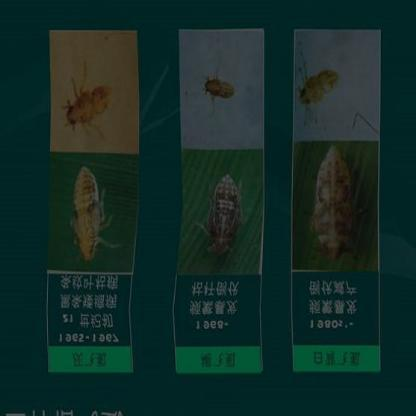brown-planthopper: (314, 142, 357, 262), (67, 160, 105, 263), (208, 172, 241, 259)
